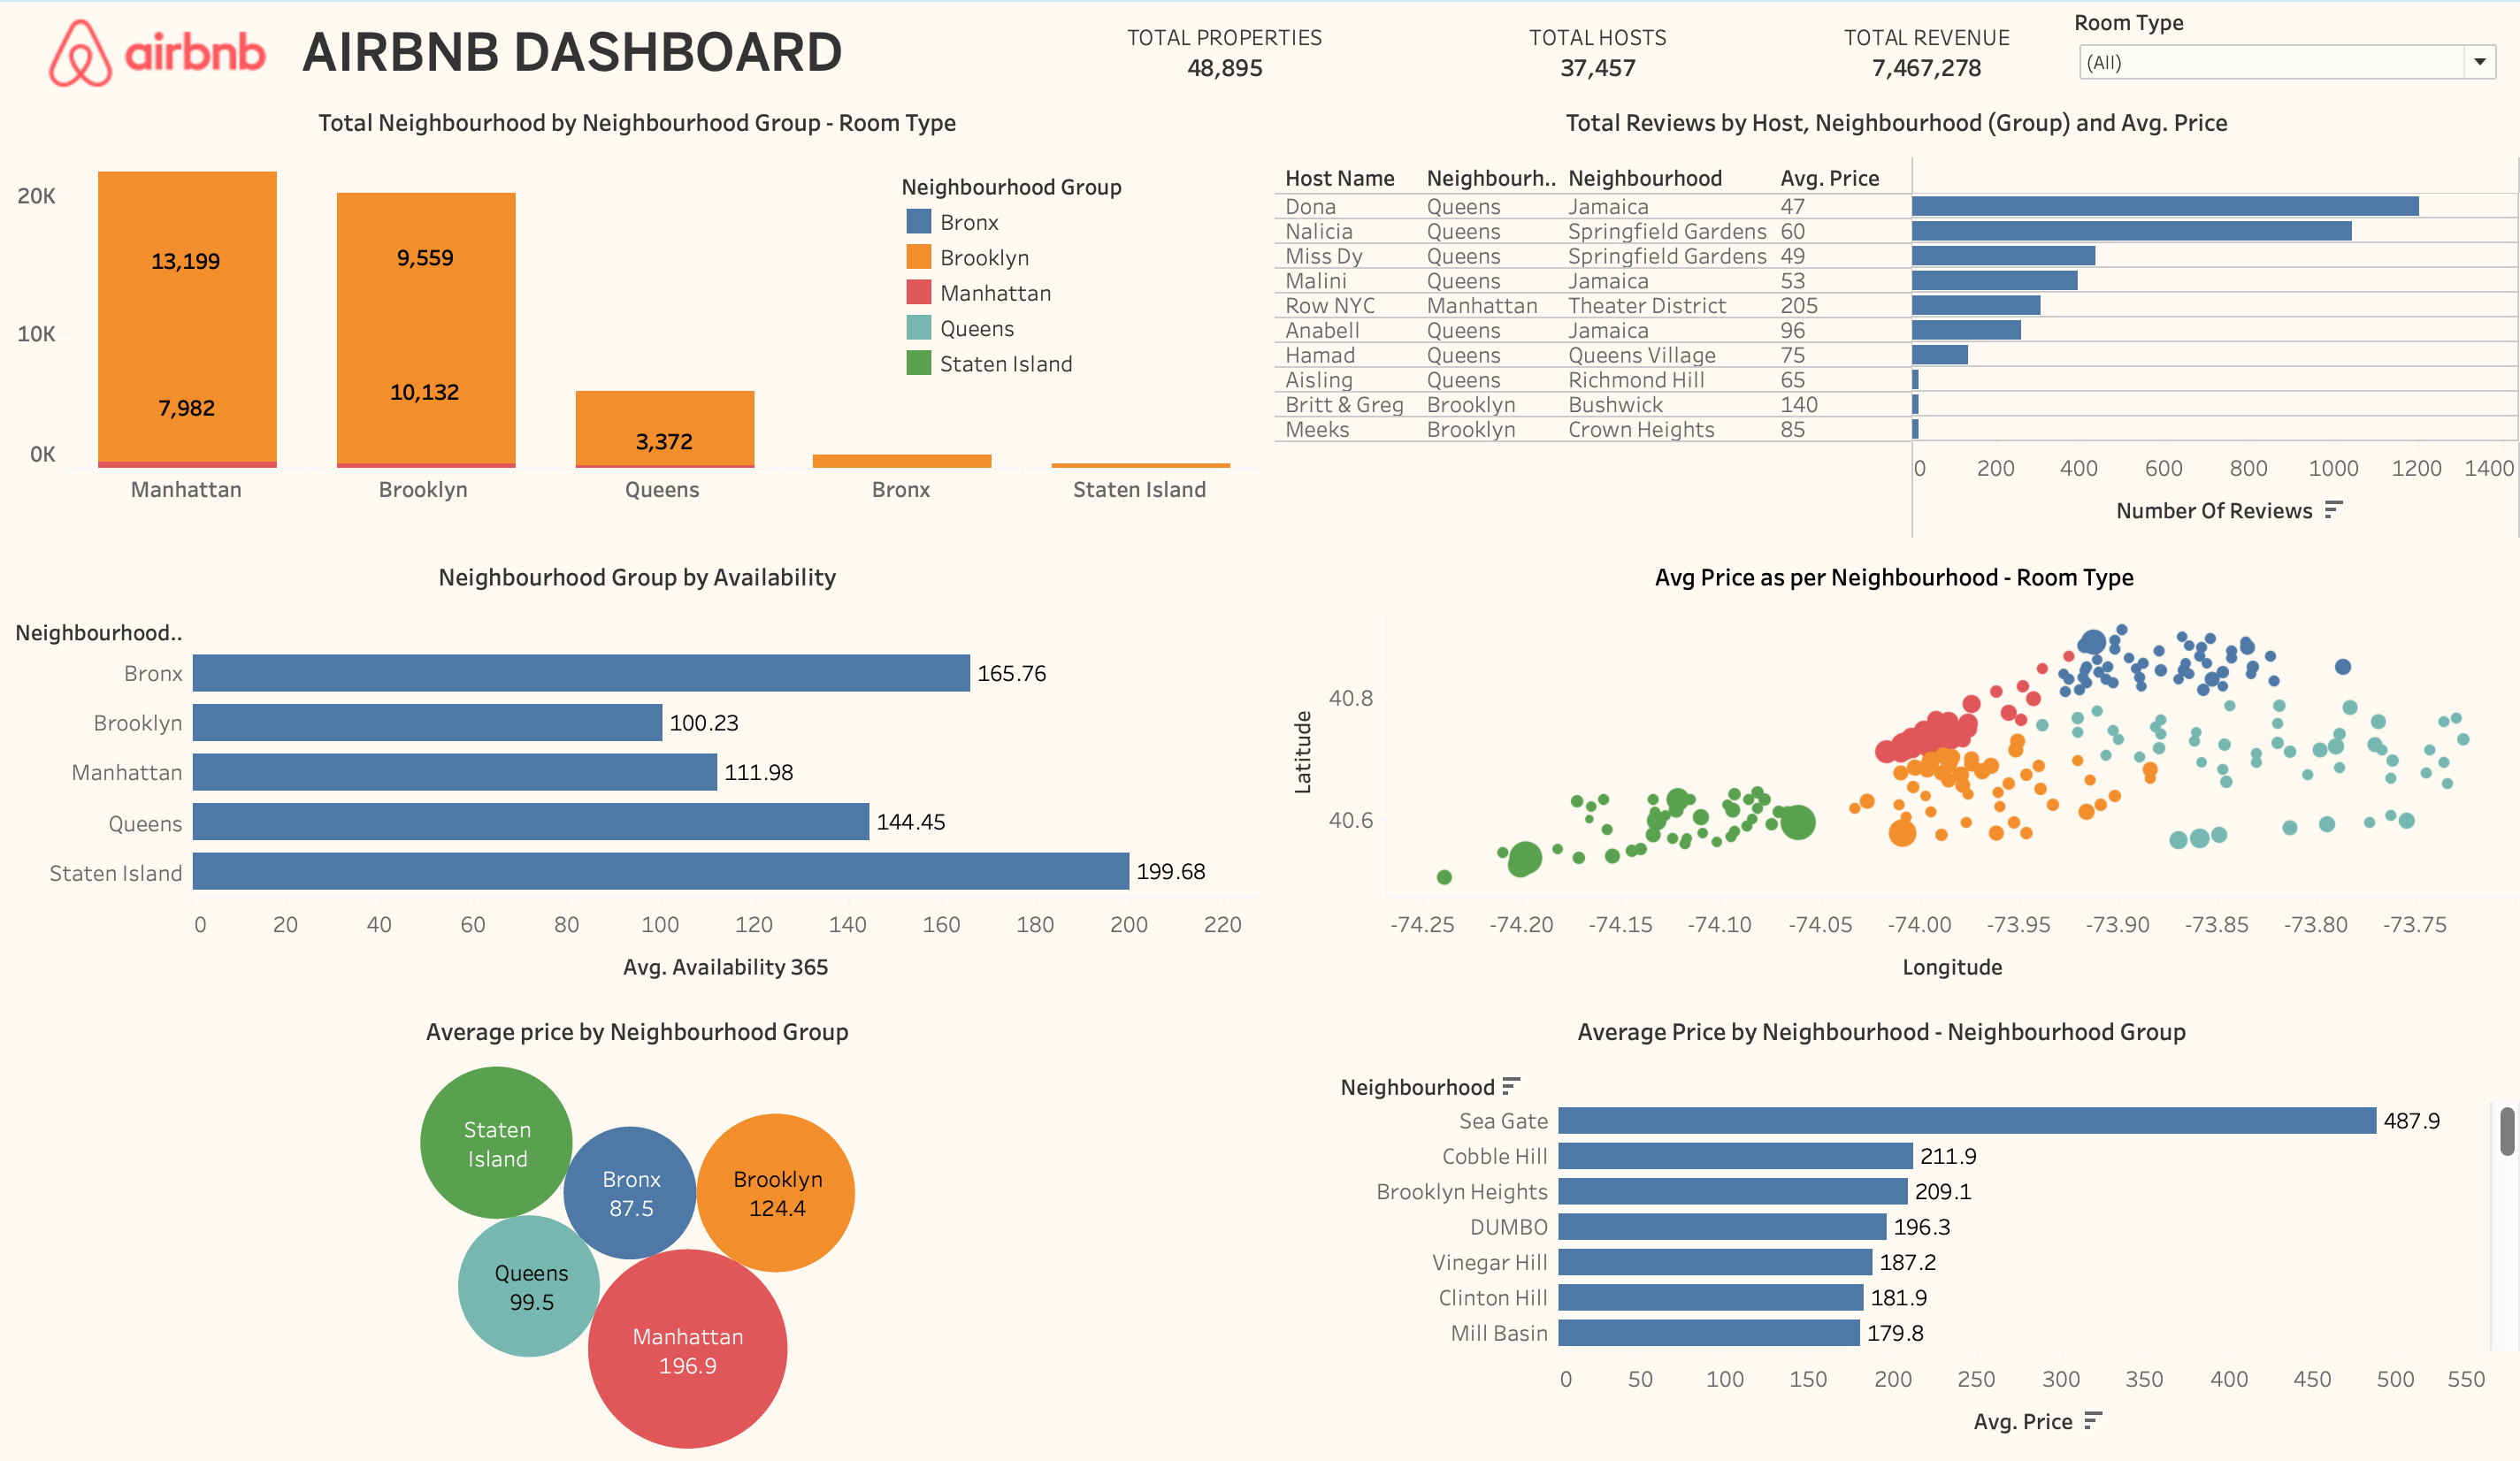

This screenshot's page, from the dashboard's own definition file:
{"tool":"tableau","page":{"name":"Dashboard","canvas":[1000,1000],"units":"permille","ordinal":0},"visuals":[{"type":"filter","title":"Avg price per neighbourhood and room type","param":"[federated.1wg60vh1qj53lk18ihdn21gqtbx0].[none:room_type:nk]","box":[817,3.8,168,65]},{"type":"title","box":[7.8,9.9,984.5,53.2]},{"type":"worksheet","title":"Total Neighbourhood by Neighbourhood Group - Room Type","mark":"Automatic","rows":["neighbourhood"],"cols":["neighbourhood_group"],"box":[7.8,63.1,492,308.7]},{"type":"worksheet","title":"Total Reviews by Host, Neighbourhood (Group) and Avg. Price","mark":"Automatic","rows":["host_name","neighbourhood_group","neighbourhood","price"],"cols":["number_of_reviews"],"box":[499.8,63.1,492.4,308.7]},{"type":"legend","title":"Average price by Neighbourhood Group","param":"[federated.1wg60vh1qj53lk18ihdn21gqtbx0].[none:neighbourhood_group:nk]","box":[356.3,115.1,135.9,146]},{"type":"worksheet","title":"Neighbourhood Group by Availability","mark":"Automatic","rows":["neighbourhood_group"],"cols":["availability_365"],"box":[7.8,371.9,492,309.1]},{"type":"worksheet","title":"Avg price per neighbourhood and room type","mark":"Automatic","rows":["latitude"],"cols":["longitude"],"box":[499.8,371.9,492.4,309]},{"type":"worksheet","title":"Average price by Neighbourhood Group","mark":"Circle","box":[7.8,680.9,492,309.2]},{"type":"worksheet","title":"Average Price by Neighbourhood - Neighbourhood Group","mark":"Automatic","rows":["neighbourhood"],"cols":["price"],"box":[499.8,680.9,492.4,309.2]}]}

Visuals, with their boxes on the dashboard's canvas, which has no fixed pixel size, in thousandths of its width and height (x1, y1, x2, y2). These are canvas units, not pixel positions in the 2520x1461 screenshot, which may show the page scaled, cropped or inside an application window:
"Avg price per neighbourhood and room type" filter: bbox(817, 4, 985, 69)
title: bbox(8, 10, 992, 63)
"Total Neighbourhood by Neighbourhood Group - Room Type" worksheet: bbox(8, 63, 500, 372)
"Total Reviews by Host, Neighbourhood (Group) and Avg. Price" worksheet: bbox(500, 63, 992, 372)
"Average price by Neighbourhood Group" legend: bbox(356, 115, 492, 261)
"Neighbourhood Group by Availability" worksheet: bbox(8, 372, 500, 681)
"Avg price per neighbourhood and room type" worksheet: bbox(500, 372, 992, 681)
"Average price by Neighbourhood Group" worksheet (Circle marks): bbox(8, 681, 500, 990)
"Average Price by Neighbourhood - Neighbourhood Group" worksheet: bbox(500, 681, 992, 990)
